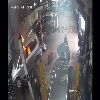fire: (21, 34, 36, 62)
